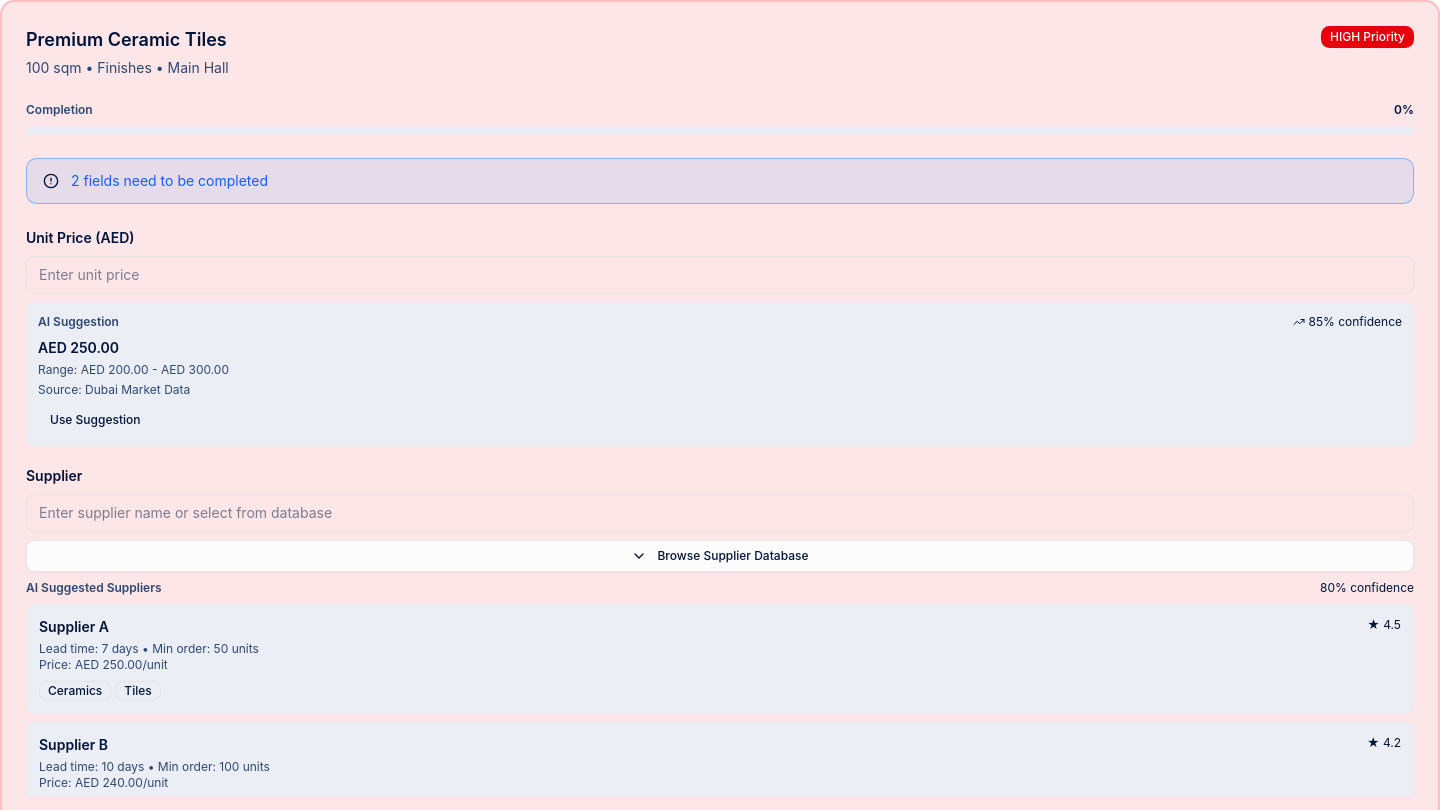
Test case: GapCompletionForm Component › Progress Tracking › should update completion percentage when fields are filled
expect the text "0%" is shown: met, box [1394,102,1414,118]
Type "250" into the number field with placeholder "Enter unit price" at (720, 275), box [26,256,1414,294]
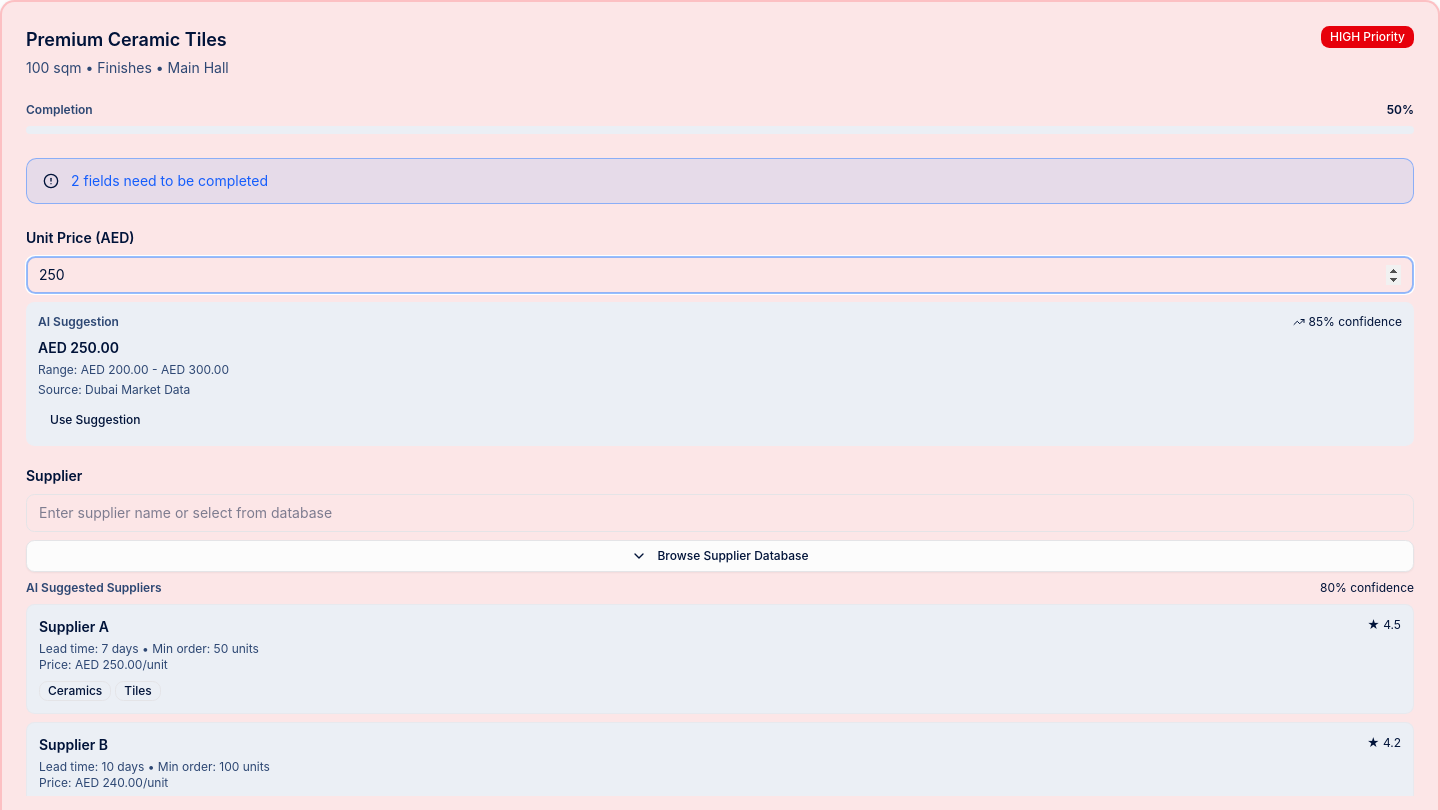
expect the text "50%" is shown: met, box [1387,102,1414,118]
